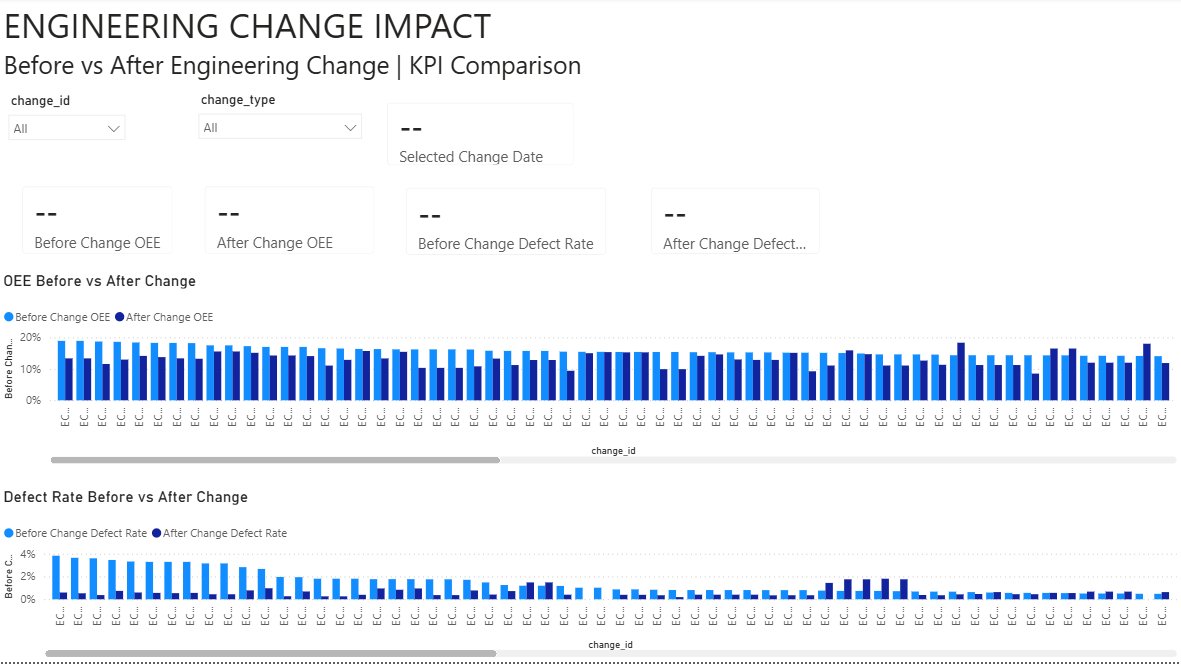

The page's visual inventory and layout, read from the dashboard file:
{"tool":"powerbi","page":{"name":"Engineering Change Impact","canvas":[1280,720],"ordinal":4},"visuals":[{"type":"textbox","box":[0,0,1280.3,98.8],"z":0},{"type":"slicer","fields":{"Values":["public ecn_events.change_id"]},"box":[0,98.8,146.8,149.6],"z":1000},{"type":"slicer","fields":{"Values":["public ecn_events.change_type"]},"box":[205.8,97.4,197.6,150.9],"z":2000},{"type":"cardVisual","fields":{"Data":["public fact_production_kpis.Selected Change Date"]},"box":[403.4,97.4,236,102],"z":3000},{"type":"cardVisual","fields":{"Data":["public fact_production_kpis.Before Change OEE"]},"box":[8.1,188.1,197.6,107],"z":4000},{"type":"cardVisual","fields":{"Data":["public fact_production_kpis.After Change OEE"]},"box":[205.7,188.1,218.2,107],"z":5000},{"type":"cardVisual","fields":{"Data":["public fact_production_kpis.After Change Defect Rate"]},"box":[688.9,189.5,217.9,106.9],"z":6000},{"type":"cardVisual","fields":{"Data":["public fact_production_kpis.Before Change Defect Rate"]},"box":[423.6,189.5,251.1,107],"z":7000},{"type":"clusteredColumnChart","title":"OEE Before vs After Change","fields":{"Category":["public ecn_events.change_id"],"Y":["public fact_production_kpis.Before Change OEE","public fact_production_kpis.After Change OEE"]},"box":[0,296.4,1280.3,214.1],"z":8000},{"type":"clusteredColumnChart","title":"Defect Rate Before vs After Change","fields":{"Category":["public ecn_events.change_id"],"Y":["public fact_production_kpis.Before Change Defect Rate","public fact_production_kpis.After Change Defect Rate"]},"box":[0,531,1280.3,189.4],"z":9000}]}

Visuals, with their boxes in screenshot pixels (x1, y1, x2, y2), scaled from the page's 1280x720 canvas onto the 1181x666 screenshot:
textbox: 0, 0, 1180, 91
slicer - public ecn_events.change_id: 0, 91, 135, 230
slicer - public ecn_events.change_type: 190, 90, 372, 230
cardVisual - public fact_production_kpis.Selected Change Date: 372, 90, 590, 184
cardVisual - public fact_production_kpis.Before Change OEE: 7, 174, 190, 273
cardVisual - public fact_production_kpis.After Change OEE: 190, 174, 391, 273
cardVisual - public fact_production_kpis.After Change Defect Rate: 636, 175, 837, 274
cardVisual - public fact_production_kpis.Before Change Defect Rate: 391, 175, 623, 274
"OEE Before vs After Change" clusteredColumnChart: 0, 274, 1180, 472
"Defect Rate Before vs After Change" clusteredColumnChart: 0, 491, 1180, 665
